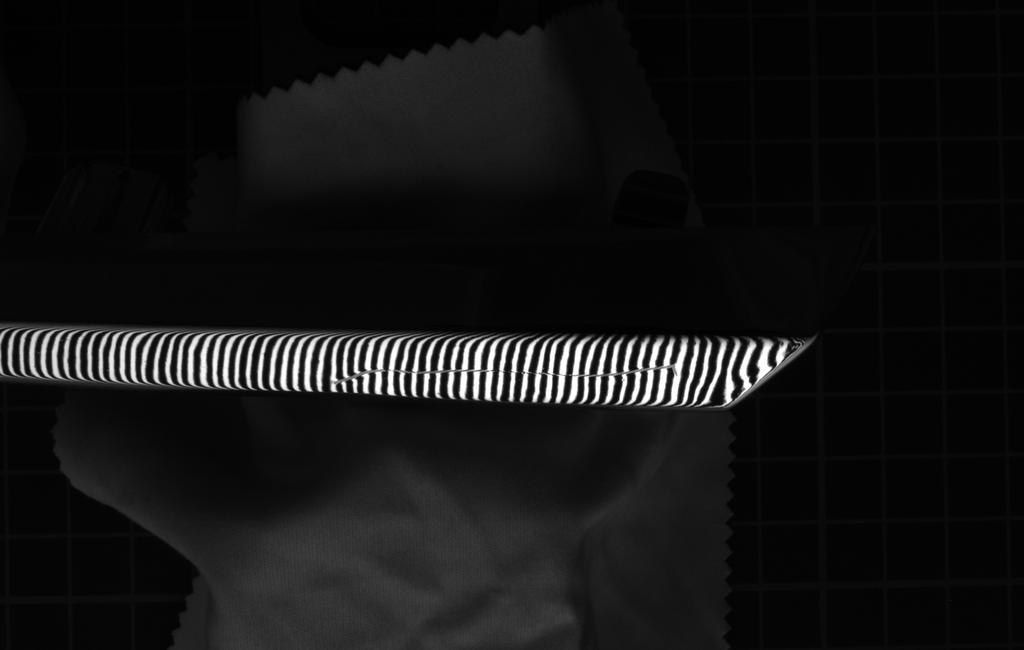Scratch: (324, 360, 703, 386)
